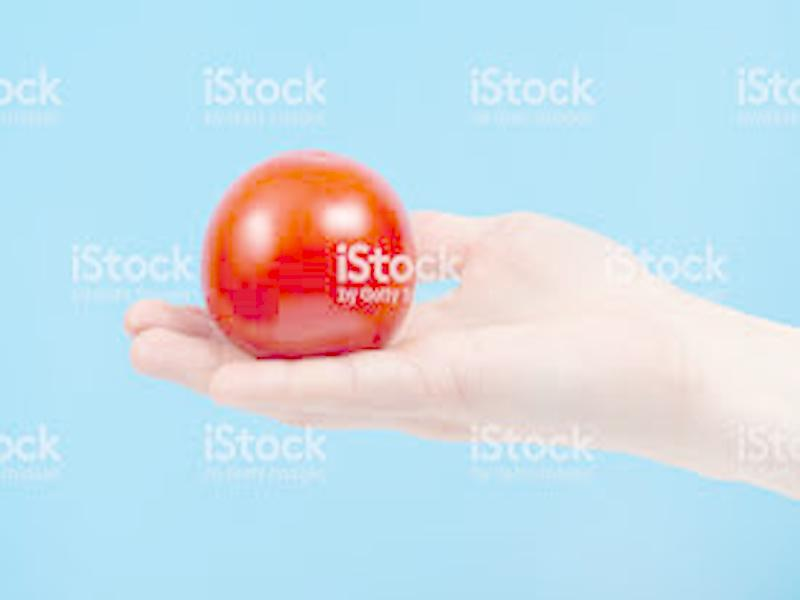Tomato: (201, 154, 413, 357)
